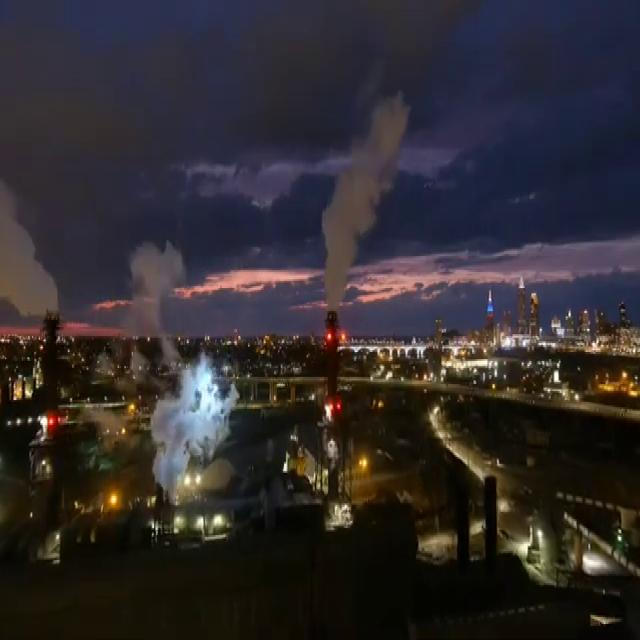smoke: (127, 240, 238, 496), (322, 89, 412, 340), (0, 172, 65, 318)
